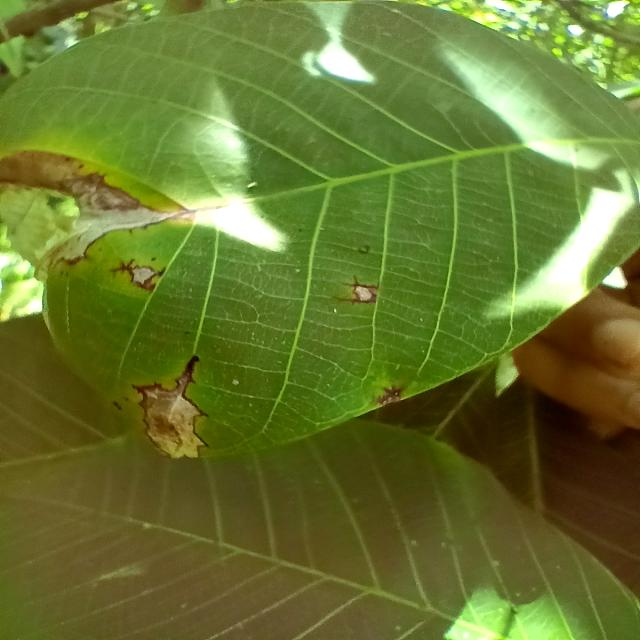Corynespora: (106, 259, 170, 292), (331, 276, 383, 306), (173, 353, 202, 392), (164, 204, 229, 221), (371, 384, 406, 406)
Leaf-Blight: (0, 149, 174, 282), (143, 388, 204, 460), (132, 269, 154, 283), (357, 286, 371, 300)
